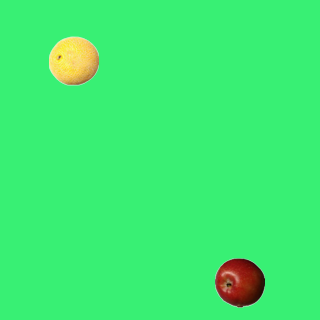Apple Braeburn: (214, 257, 264, 307)
Cantaloupe 1: (48, 35, 98, 85)
